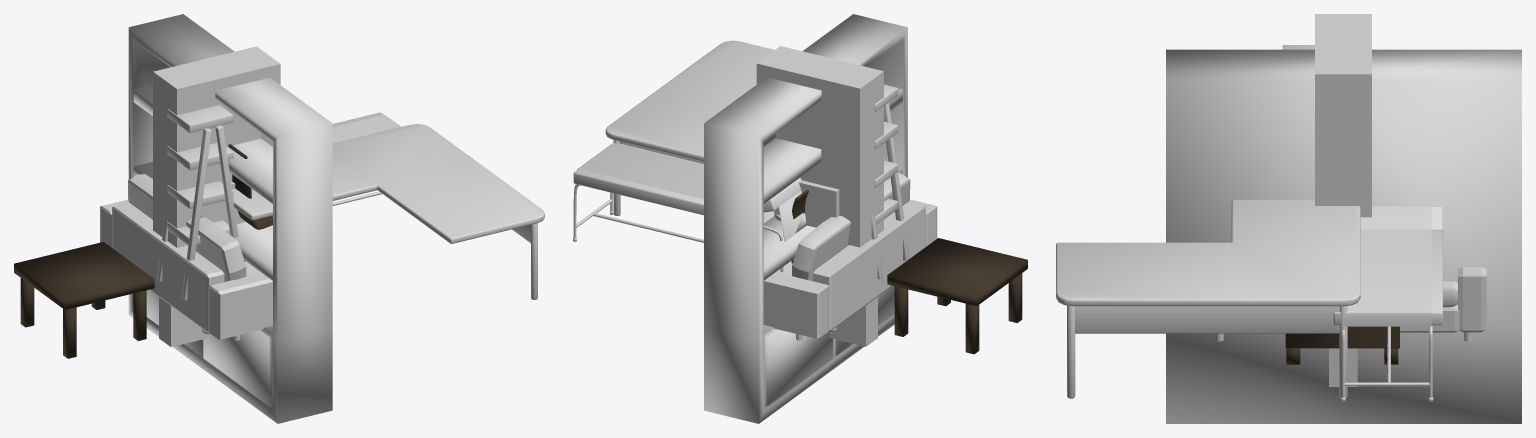
The model's file is Furniture.fbx.
The picture shows the model from 3 angles, left to right: view 1: azimuth 30°, elevation 25°; view 2: azimuth 150°, elevation 25°; view 3: azimuth 270°, elevation 25°; orthographic projection. The views are drawn at different scales.
Visible parts, largest first — view 1: Curpboard, DesktopClinic, Sofa, GlasDoorCabinet, SmallTable, Rack, Window, Stretcher, ChairDesktop, Sink; view 2: Curpboard, Sofa, GlasDoorCabinet, DesktopClinic, Stretcher, SmallTable, Rack, Window, Sink; view 3: Curpboard, DesktopClinic, Stretcher, GlasDoorCabinet, Sofa, Drawer, Window.
Part boxes in pixels (left/top/right/bottom): Curpboard: left=128, top=14, right=332, bottom=423; DesktopClinic: left=225, top=124, right=544, bottom=299; Sofa: left=100, top=174, right=272, bottom=340; GlasDoorCabinet: left=153, top=46, right=280, bottom=247; SmallTable: left=14, top=242, right=154, bottom=358; Rack: left=157, top=105, right=238, bottom=300; Window: left=159, top=208, right=207, bottom=346; Stretcher: left=332, top=112, right=400, bottom=205; ChairDesktop: left=228, top=144, right=272, bottom=229; Sink: left=200, top=181, right=245, bottom=224; Curpboard: left=704, top=14, right=907, bottom=423; Sofa: left=763, top=172, right=937, bottom=340; GlasDoorCabinet: left=756, top=46, right=883, bottom=247; DesktopClinic: left=605, top=40, right=774, bottom=215; Stretcher: left=573, top=142, right=806, bottom=272; SmallTable: left=887, top=238, right=1027, bottom=354; Rack: left=871, top=84, right=909, bottom=279; Window: left=829, top=208, right=877, bottom=346; Sink: left=774, top=180, right=839, bottom=227; Curpboard: left=1166, top=49, right=1521, bottom=423; DesktopClinic: left=1056, top=200, right=1360, bottom=398; Stretcher: left=1333, top=206, right=1442, bottom=401; GlasDoorCabinet: left=1315, top=14, right=1371, bottom=217; Sofa: left=1215, top=267, right=1486, bottom=341; Drawer: left=1285, top=326, right=1399, bottom=364; Window: left=1329, top=348, right=1357, bottom=386.
Size of the model in its own units: 3.79 by 2.75 by 3.27.
